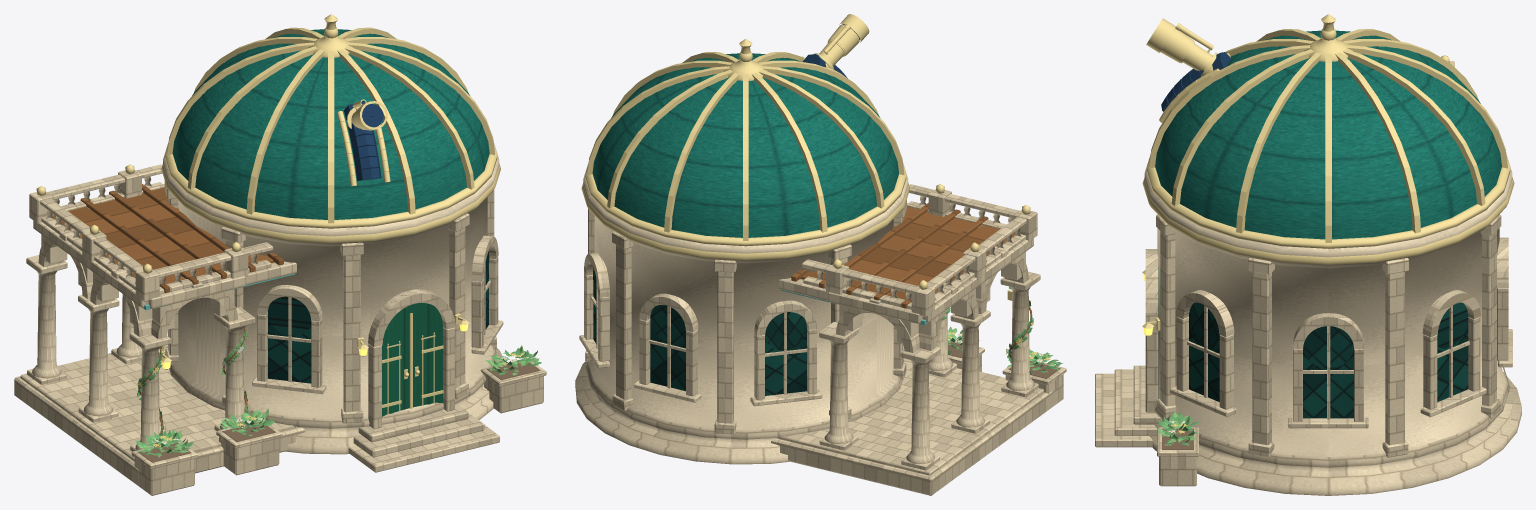
Rendered from observatory.glb.
The picture shows the model from 3 angles, left to right: view 1: azimuth 30°, elevation 25°; view 2: azimuth 150°, elevation 25°; view 3: azimuth 270°, elevation 25°; orthographic projection. The views are drawn at different scales.
Visible parts, largest first — view 1: observatory; view 2: observatory; view 3: observatory.
Boxes of the visible parts, box(x1,y1,x2,y2) form: observatory: box(14, 14, 546, 495); observatory: box(575, 14, 1066, 495); observatory: box(1095, 14, 1521, 495).
Bounding box in the file's own units: 9.86 × 8.36 × 8.08.
16 materials, 6 textured.
